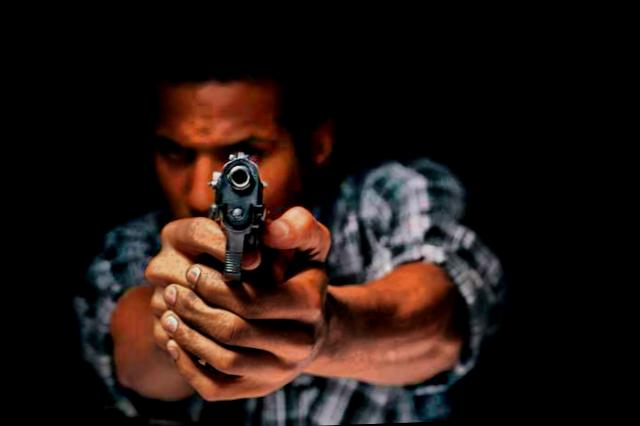pistol: (201, 150, 277, 289)
